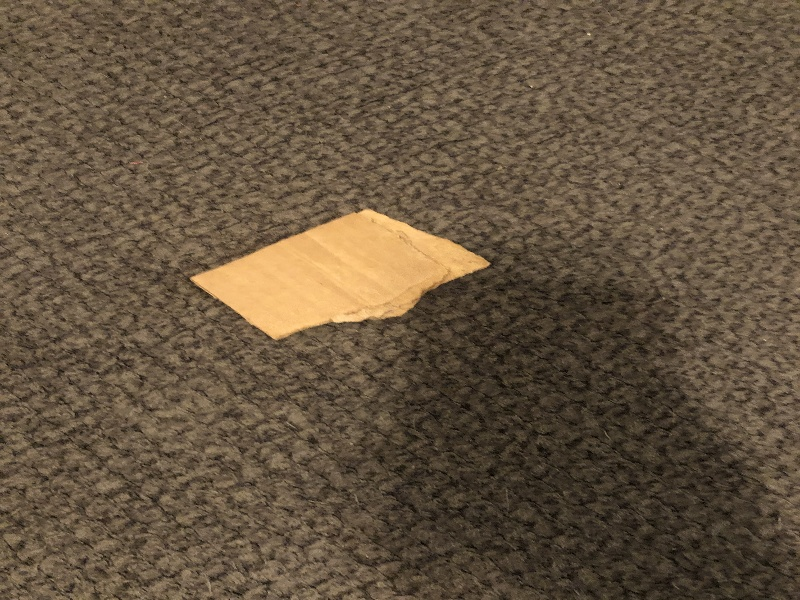cardboard: (187, 206, 498, 342)
